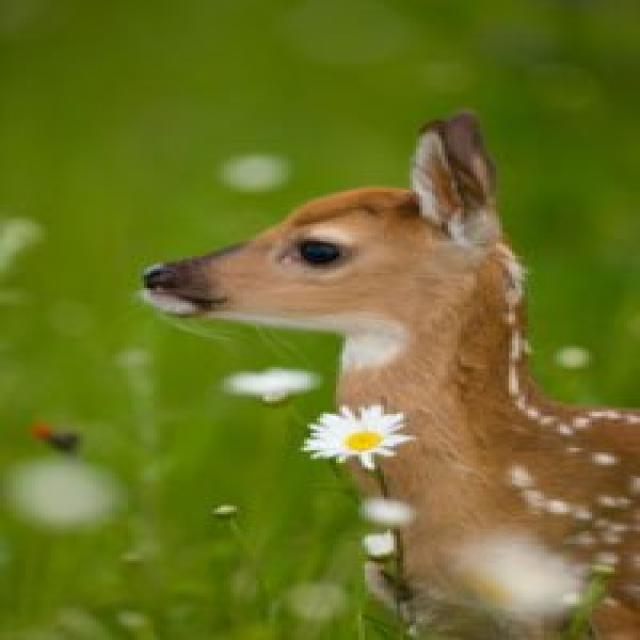not_pig: (134, 109, 637, 638)
